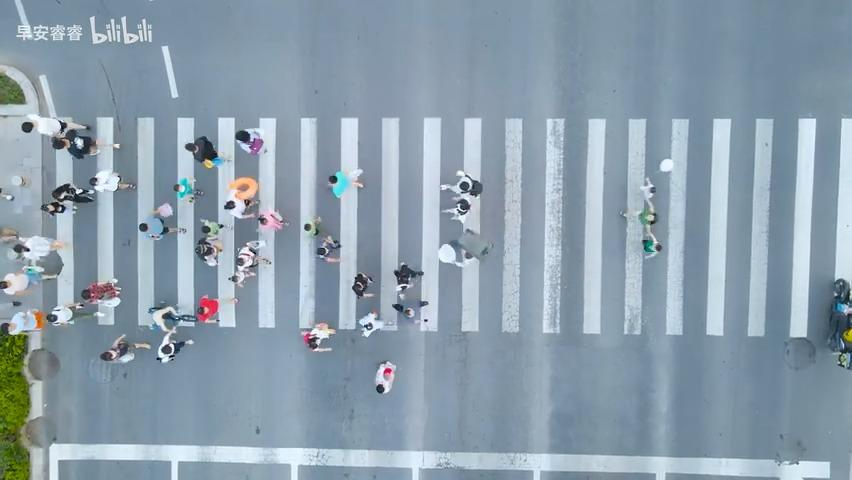Civilian: (21, 113, 120, 159), (231, 240, 276, 293), (50, 128, 120, 159), (191, 217, 228, 271), (619, 206, 662, 250), (826, 278, 851, 352), (21, 112, 90, 138), (184, 135, 231, 169), (223, 176, 260, 219), (0, 263, 43, 299), (1, 299, 38, 340), (99, 333, 151, 362), (155, 327, 194, 363), (21, 226, 57, 263), (138, 215, 186, 240), (327, 167, 364, 199), (196, 294, 238, 322), (439, 170, 482, 197), (89, 169, 136, 192), (301, 322, 336, 352), (81, 278, 121, 304), (45, 301, 84, 326), (147, 304, 180, 333), (50, 182, 95, 203), (393, 261, 423, 292), (173, 175, 204, 203), (235, 129, 267, 155), (357, 308, 384, 337), (257, 208, 290, 231), (374, 360, 396, 394), (315, 234, 341, 262), (639, 176, 656, 214), (351, 272, 374, 298), (392, 302, 415, 319), (303, 215, 321, 236), (0, 187, 14, 201)
